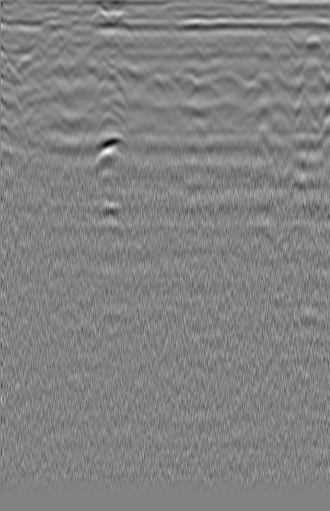가스: (89, 130, 130, 170)
상수: (2, 56, 27, 83)
오수: (292, 30, 328, 58)
우수: (148, 5, 184, 41)
